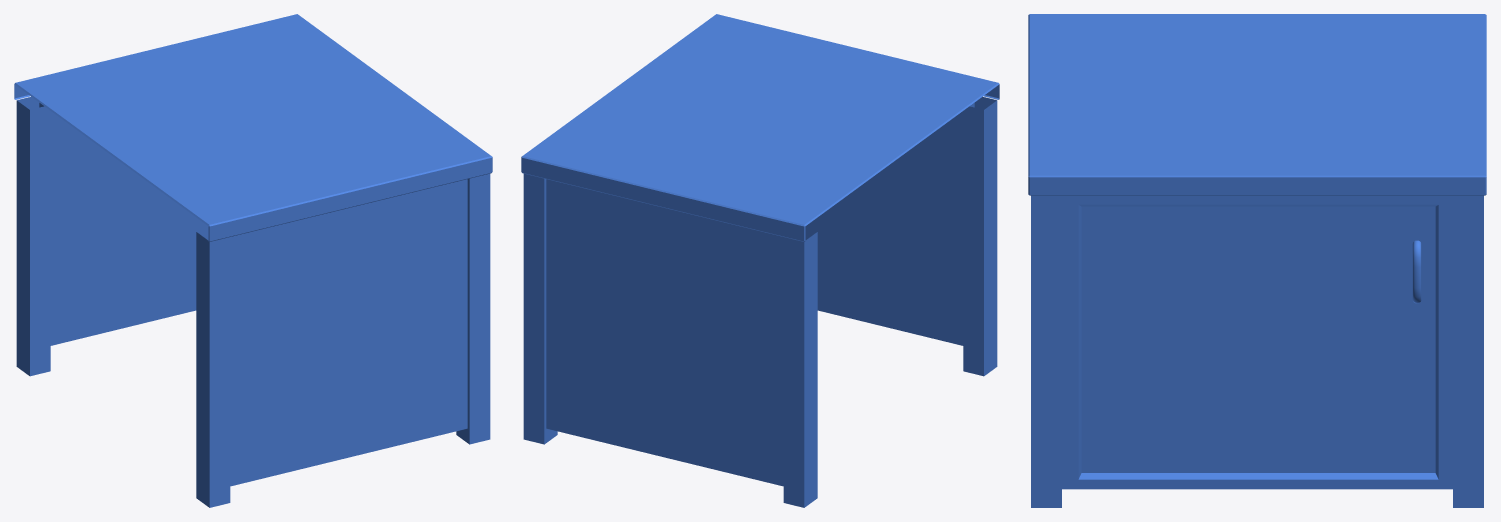
File: G_Cabinet_02.fbx
3 renders of one model, left to right at view 1: azimuth 30°, elevation 25°; view 2: azimuth 150°, elevation 25°; view 3: azimuth 270°, elevation 25°, orthographic. The views are drawn at different scales.
Parts seen in each view (by area): view 1: cabinet; view 2: cabinet; view 3: cabinet.
Part boxes in pixels (<box>): cabinet: <box>14,14,492,507</box>; cabinet: <box>521,14,999,507</box>; cabinet: <box>1028,14,1486,507</box>.
Bounding box in the file's own units: 1055 × 1003 × 1251.
